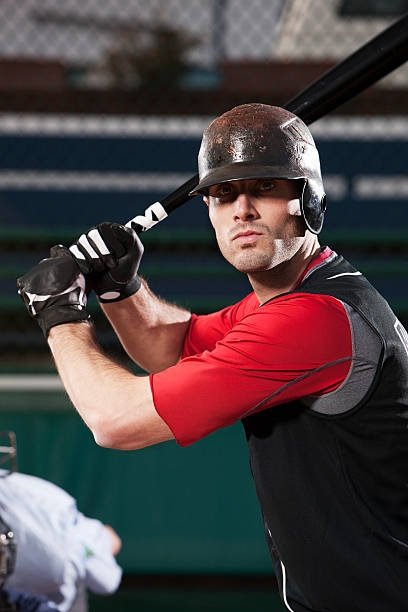bita: (49, 26, 400, 277)
